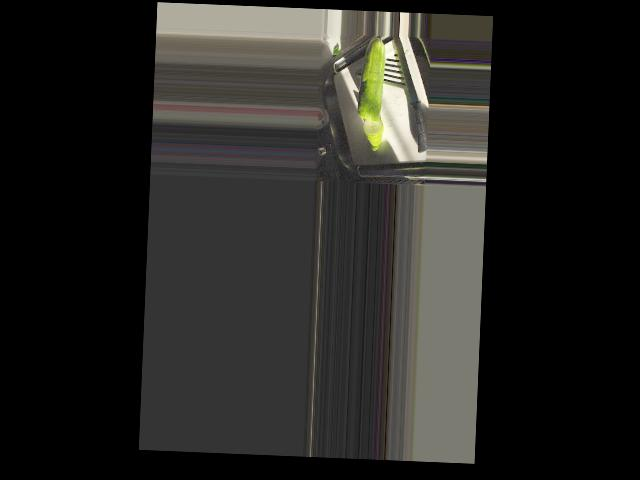cucumber: (357, 37, 386, 122)
